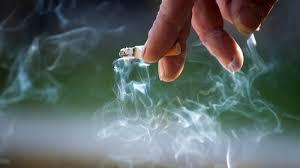smoke: (119, 43, 182, 59)
